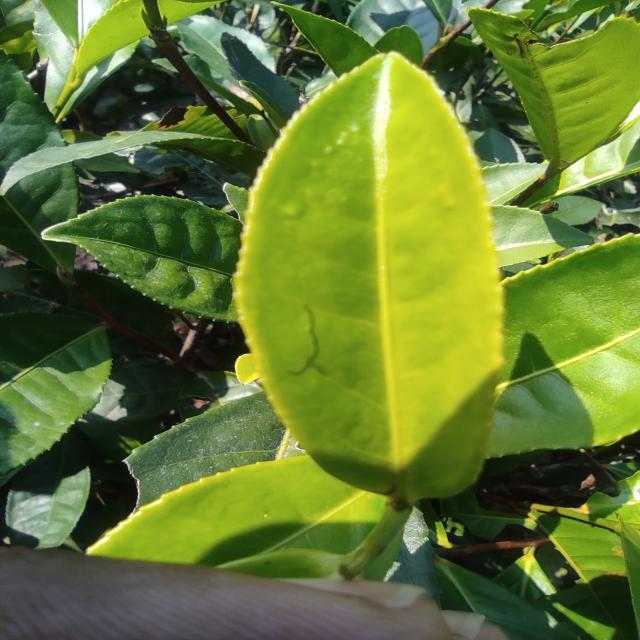Category C(4-7 days): (211, 27, 535, 533)
